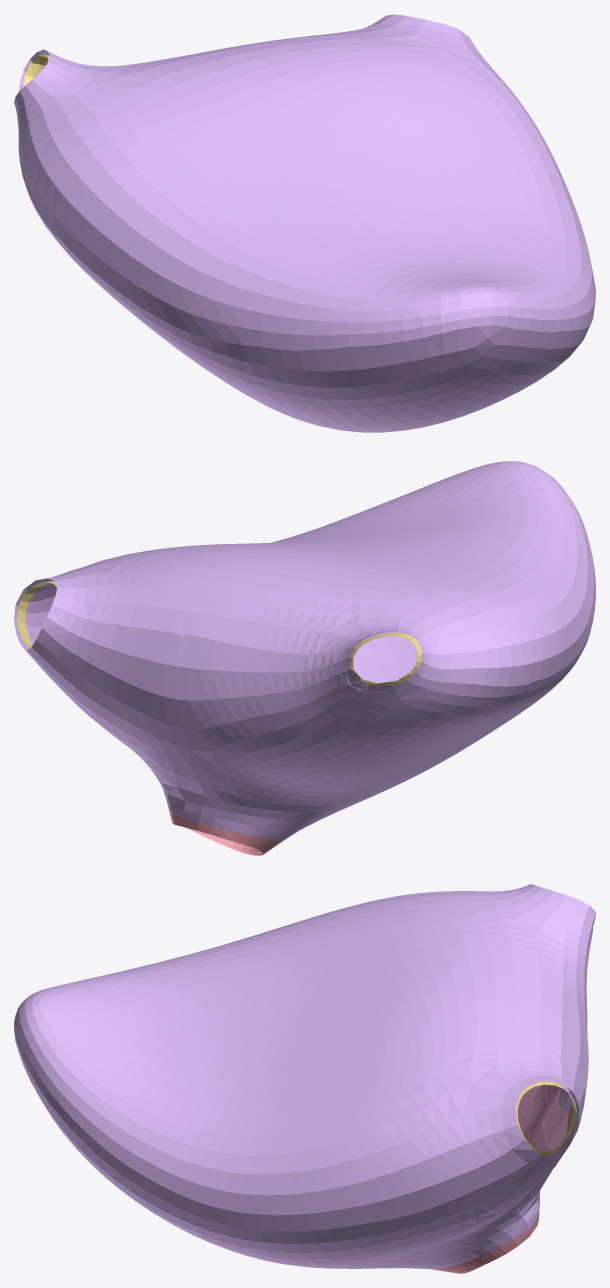
Rendered from organ-bladder.glb.
The picture shows the model from 3 angles, top to bottom: view 1: azimuth 30°, elevation 25°; view 2: azimuth 150°, elevation 25°; view 3: azimuth 270°, elevation 25°; orthographic projection. The views are drawn at different scales.
Parts seen in each view (by area): view 1: fundus-of-urinary-bladder; view 2: fundus-of-urinary-bladder, urinary-bladder-neck-smooth-muscle, ureteral-orifice; view 3: fundus-of-urinary-bladder, trigone-of-urinary-bladder, urinary-bladder-neck-smooth-muscle, ureteral-orifice.
Part boxes in pixels (<box>): fundus-of-urinary-bladder: <box>14,14,595,432</box>; fundus-of-urinary-bladder: <box>14,461,595,842</box>; urinary-bladder-neck-smooth-muscle: <box>169,813,280,855</box>; ureteral-orifice: <box>17,581,422,685</box>; fundus-of-urinary-bladder: <box>14,884,595,1269</box>; trigone-of-urinary-bladder: <box>517,1084,573,1151</box>; urinary-bladder-neck-smooth-muscle: <box>432,1212,539,1273</box>; ureteral-orifice: <box>516,1081,577,1154</box>.
Size of the model in its own units: 0.0638 by 0.0399 by 0.0723.
